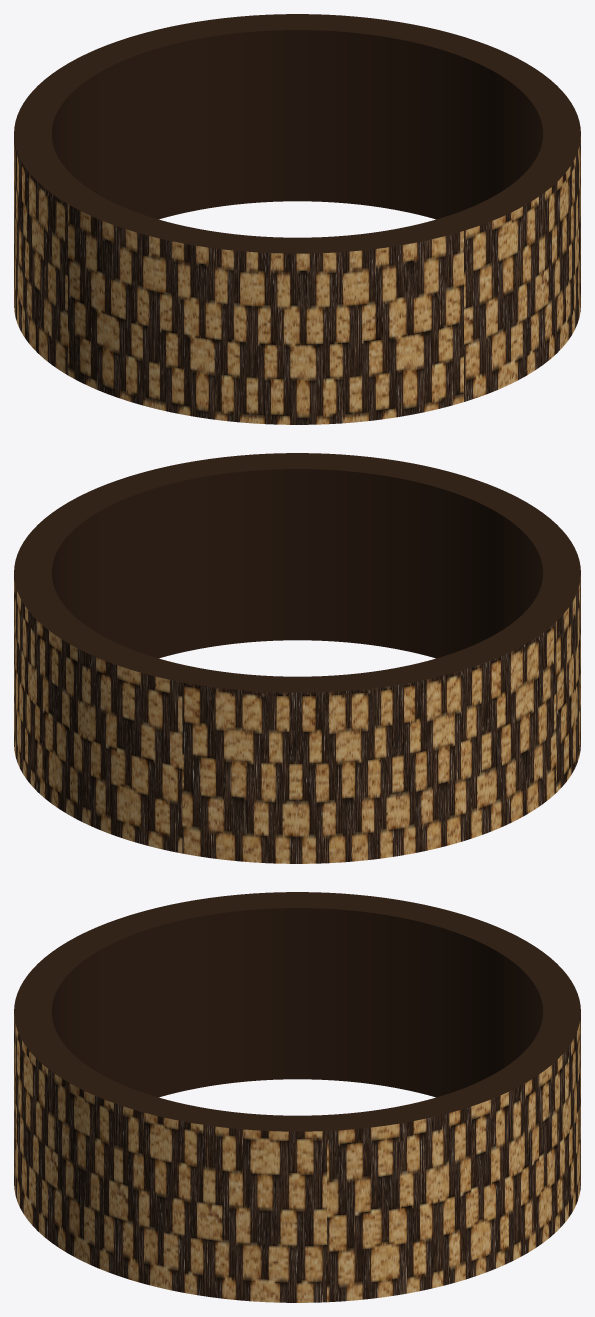
Rendered from anillo-ancestral.glb.
3 renders of one model, top to bottom at view 1: azimuth 30°, elevation 25°; view 2: azimuth 150°, elevation 25°; view 3: azimuth 270°, elevation 25°, orthographic.
Visible parts, largest first — view 1: Círculo; view 2: Círculo; view 3: Círculo.
Boxes of the visible parts, bbox=[...] form: Círculo: bbox=[14, 14, 580, 424]; Círculo: bbox=[14, 453, 580, 863]; Círculo: bbox=[14, 892, 580, 1302].
Bounding box in the file's own units: 3 × 1 × 3.
1 material, 1 textured.
